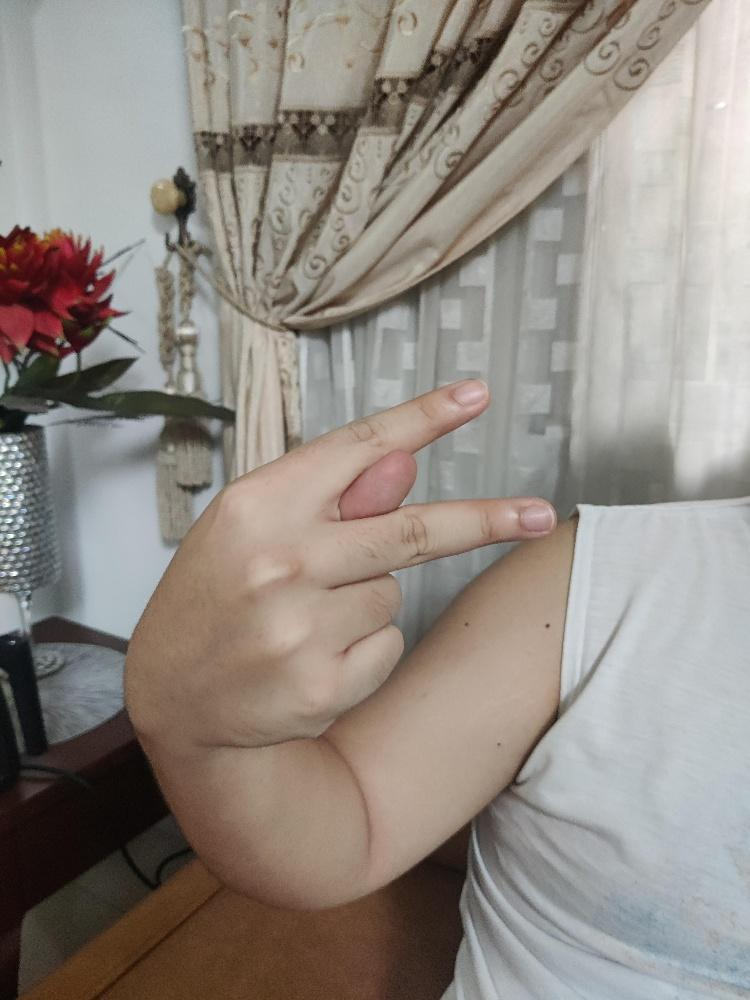k: (120, 374, 559, 750)
